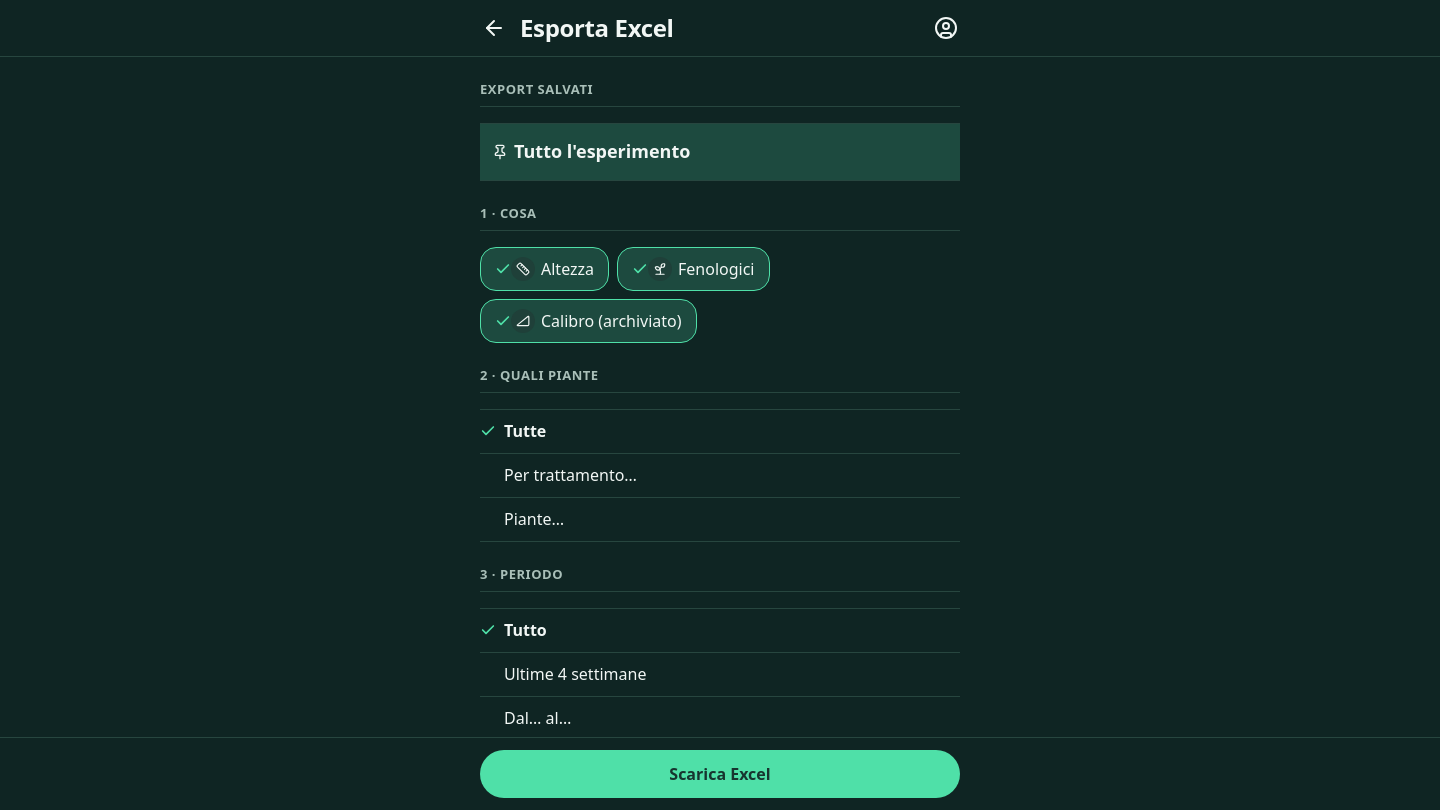
it: Esporta: le quattro scelte › Cosa: i chip si scelgono e togliendo l'ultimo lo dice
This screenshot has width=1440, height=810.
Click the button "Fenologici": point(693, 269) [617,247,770,291]
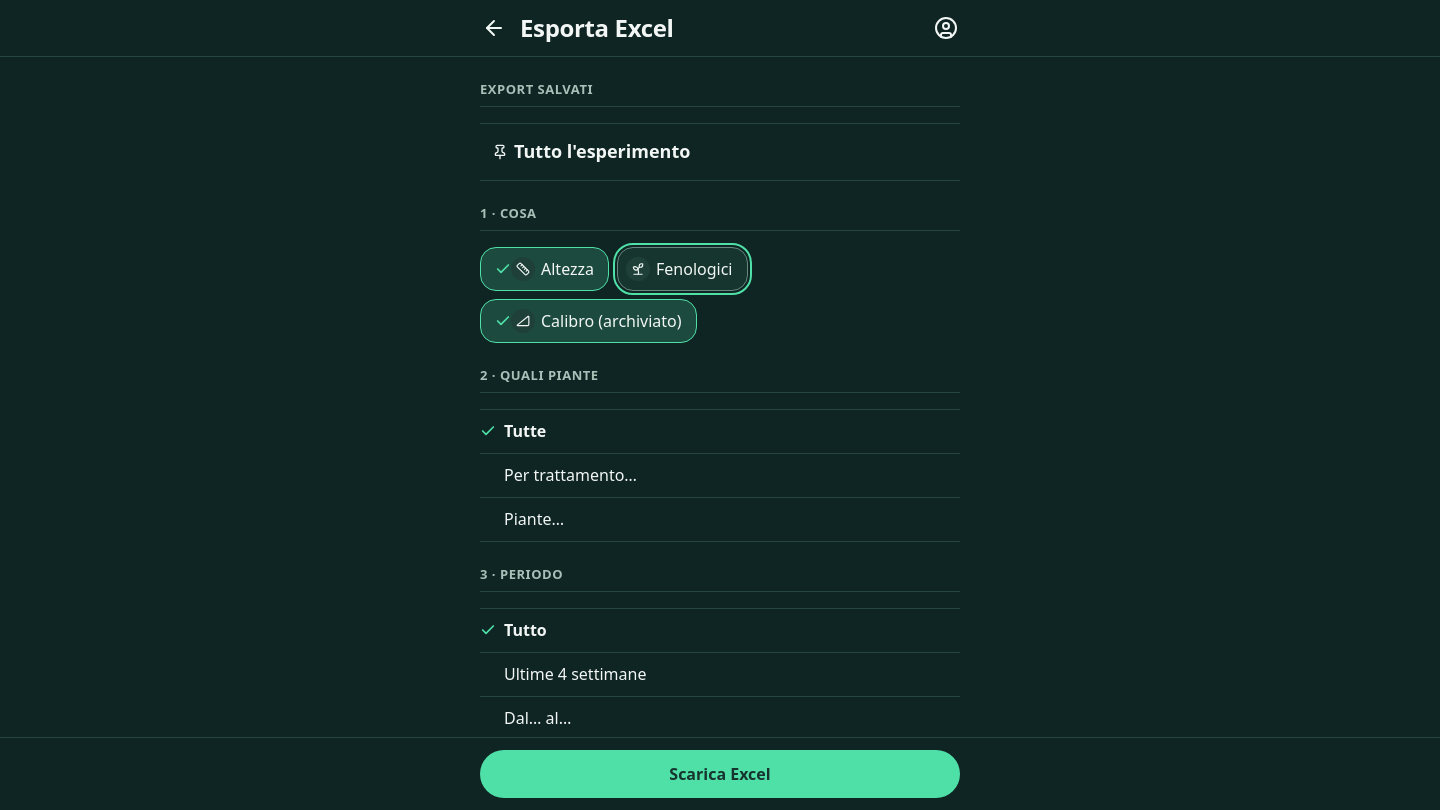
Click the button "Calibro (archiviato)": point(588, 321) [480,299,697,343]
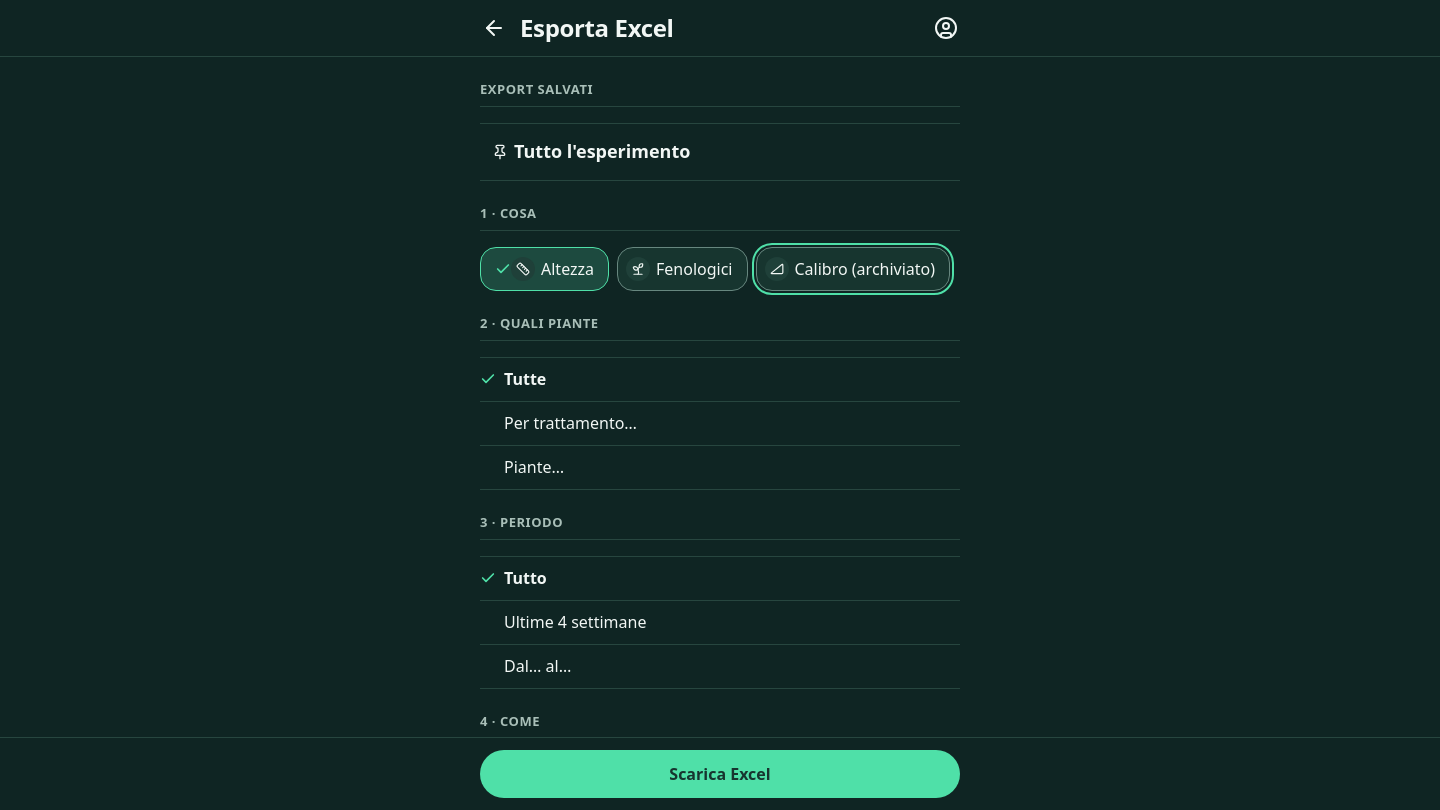
Result: the button "Fenologici" is not pressed at [617,247,748,291]
Click the button "Altezza": point(544, 269) [480,247,609,291]
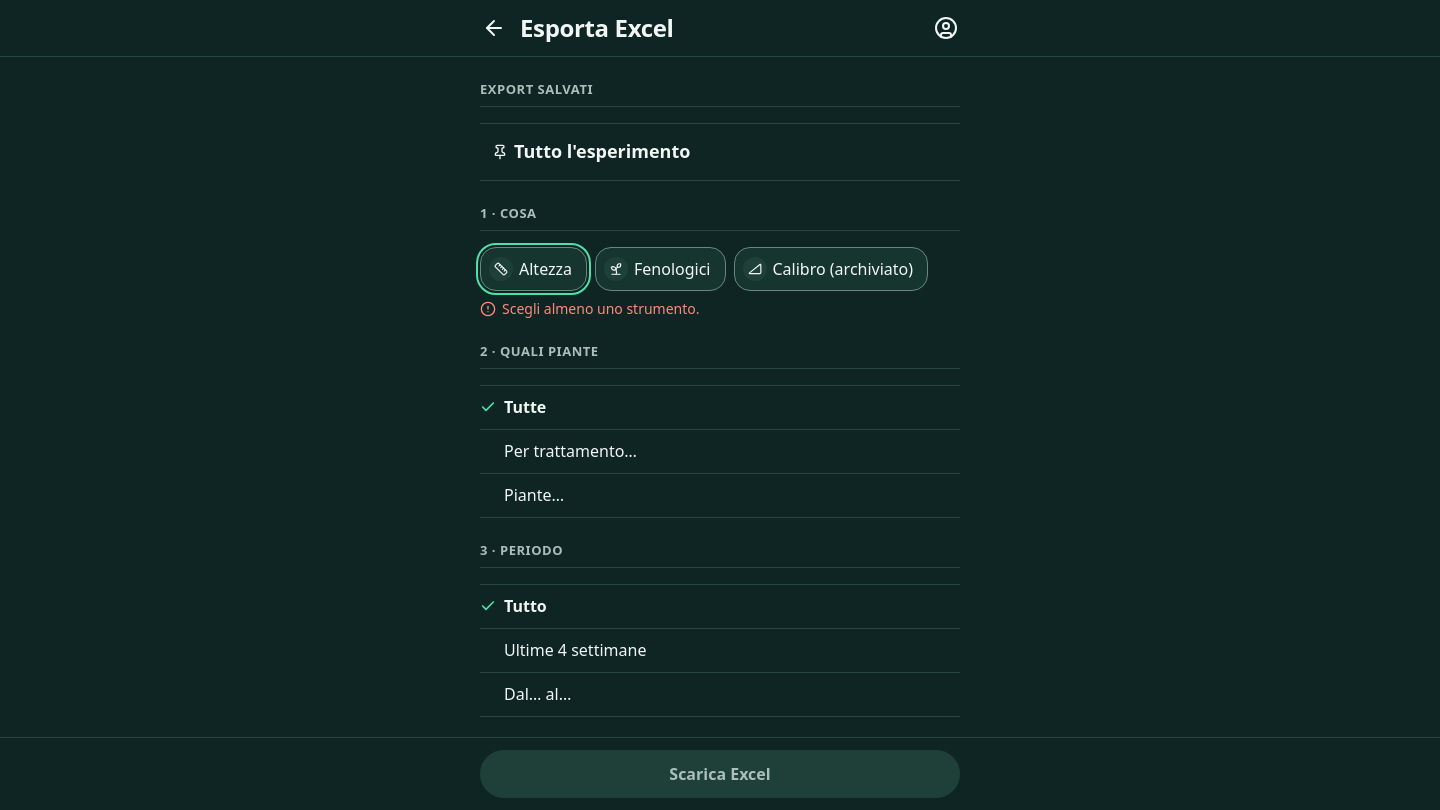
Result: the text "Scegli almeno uno strumento." is shown at [480,299,700,318]
Result: the button "Scarica Excel" is disabled at [480,750,960,798]
Click the button "Altezza": point(534, 269) [480,247,587,291]
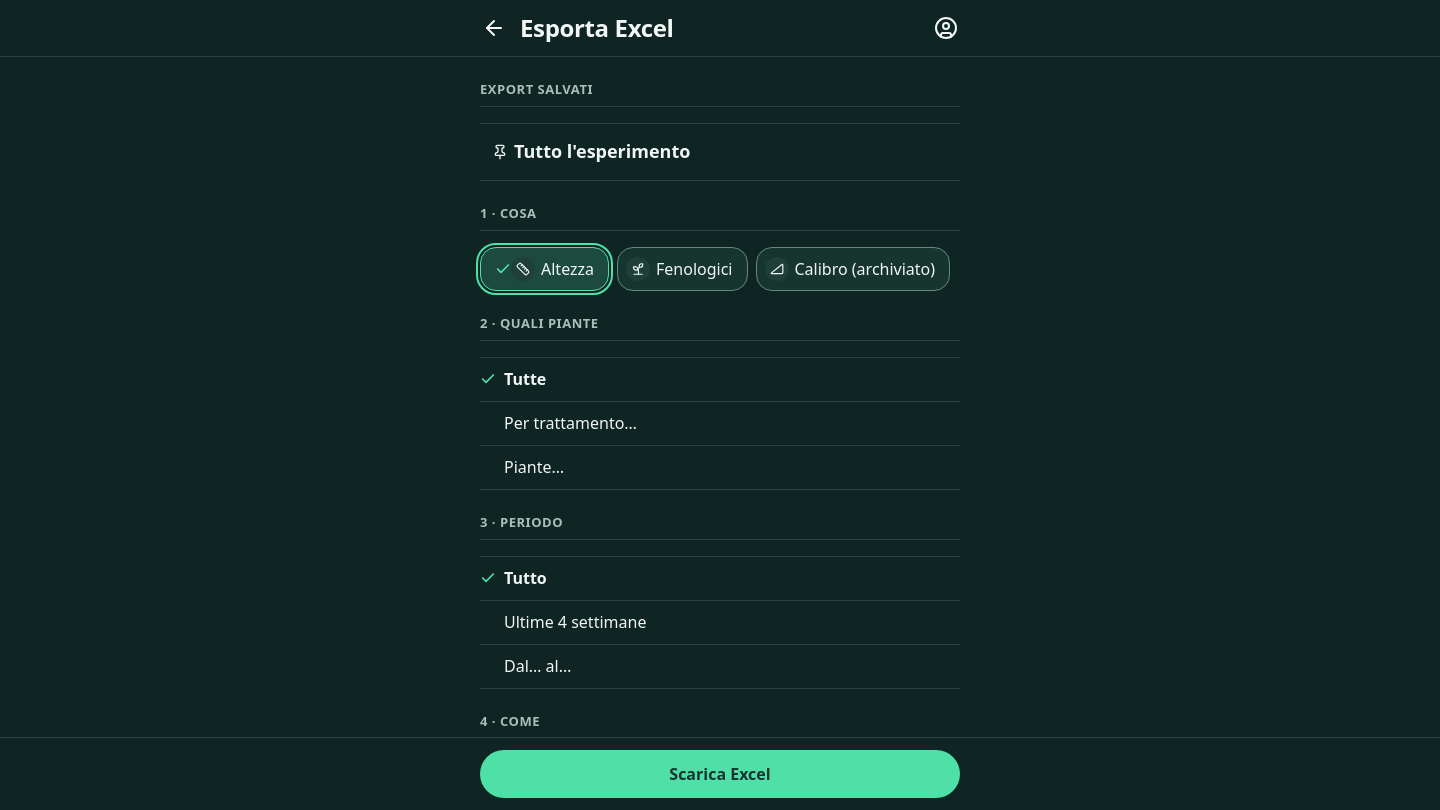
Result: the text "Scegli almeno uno strumento." is gone
